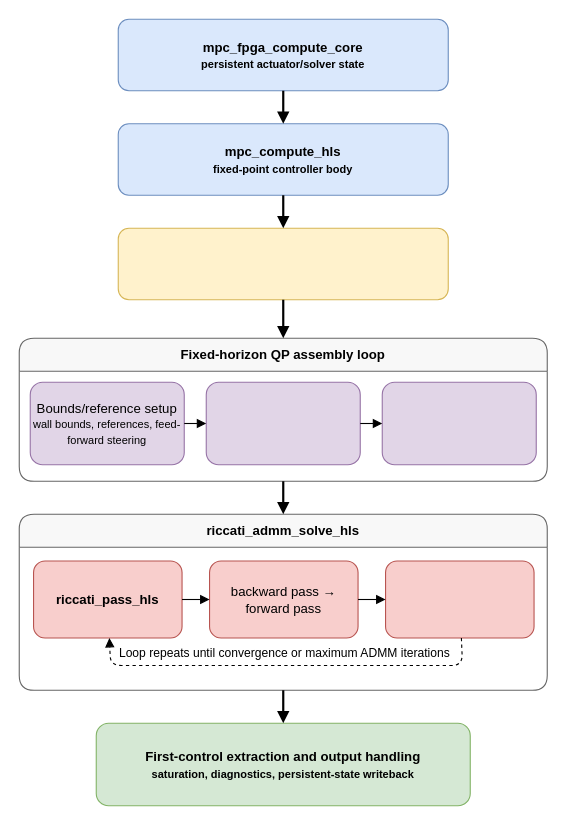
Some shapes in this 567 by 825 pixel diagram are drawn without their labels. The shapes that lost their labels are listed below. From the top down, each one's centre as x and y in pixels, then its label:
pixel 282 263: Warm-start and configuration state validation, ADMM config, initial state
pixel 282 423: compute_frenet
pixel 458 423: compute_affine_bias
pixel 459 599: Projection, dual update, residuals
